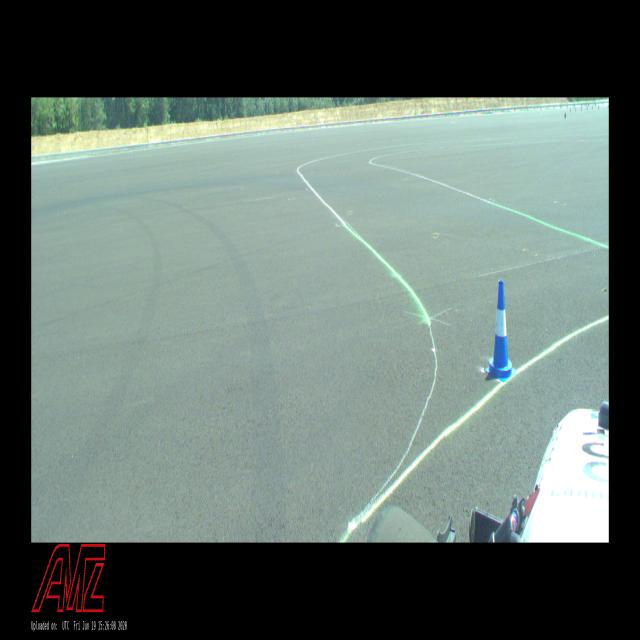blue_cone: (485, 280, 516, 382)
